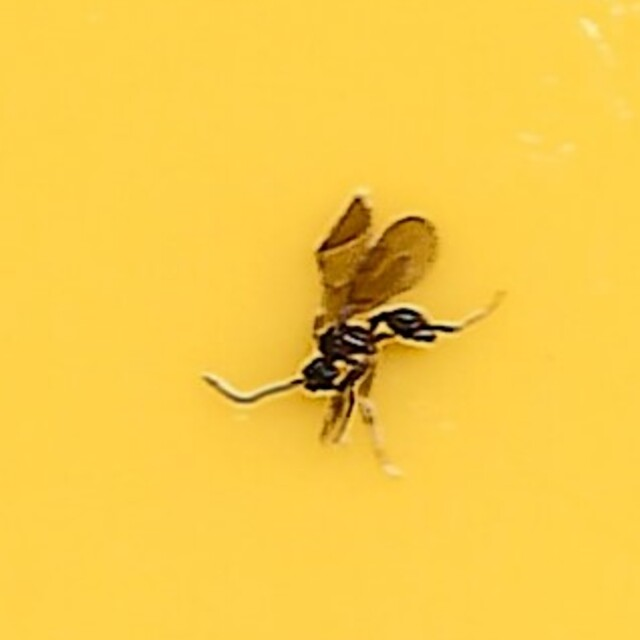Hymenoptera: (201, 199, 439, 441)
